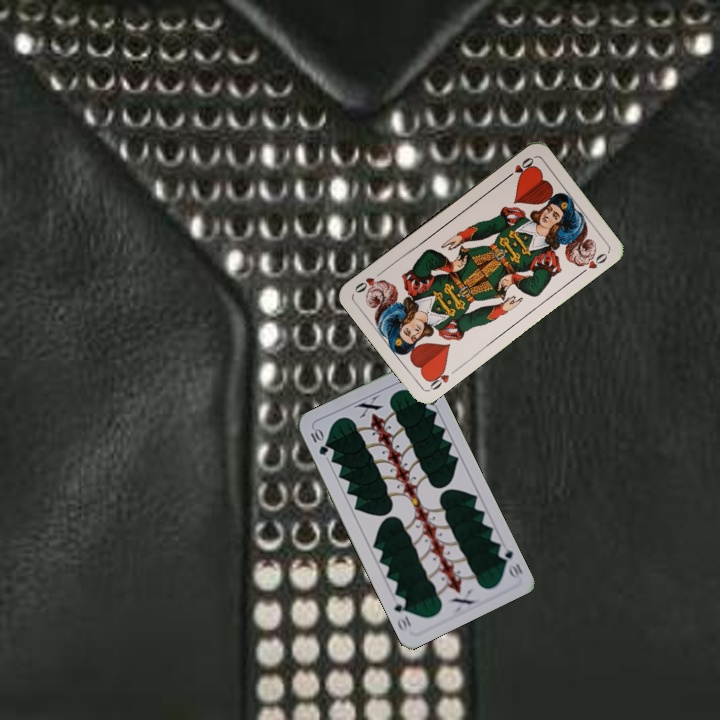G10: (494, 541, 526, 581), (306, 424, 331, 458)
HO: (424, 363, 460, 393), (501, 153, 536, 182)
